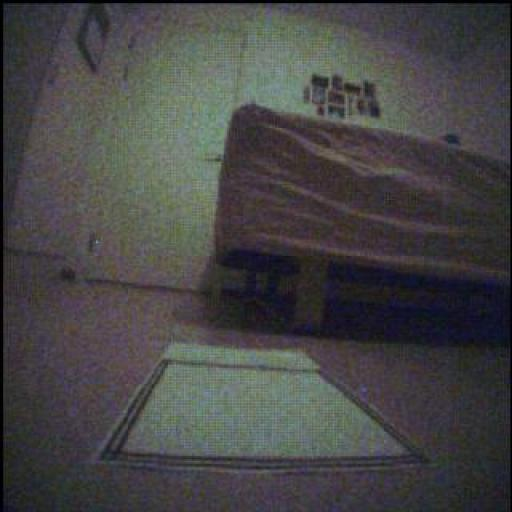pad: (100, 343, 428, 473)
